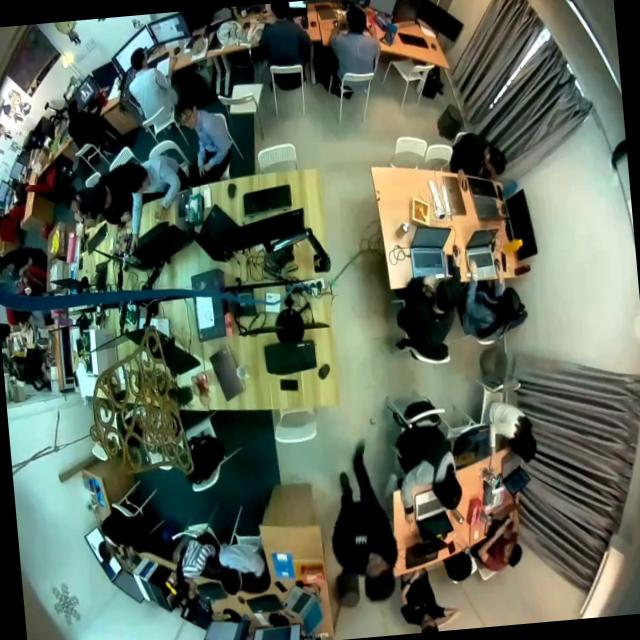employee_tag: (354, 534, 368, 548)
